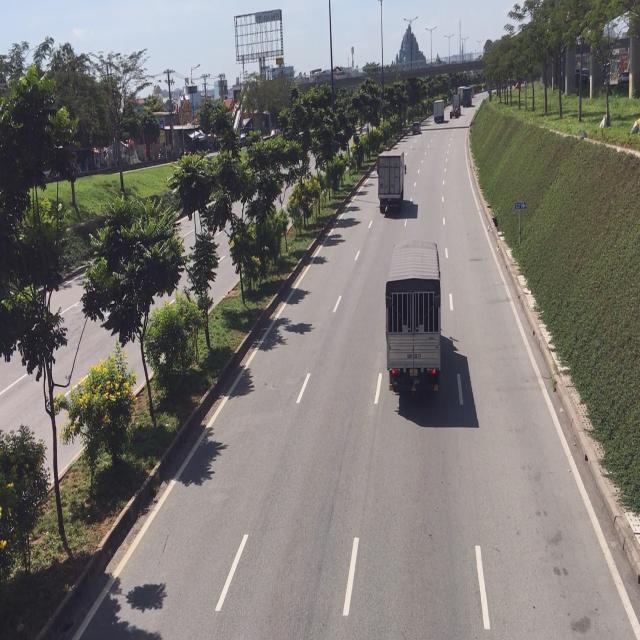truck: (384, 239, 444, 398), (378, 151, 405, 214)
